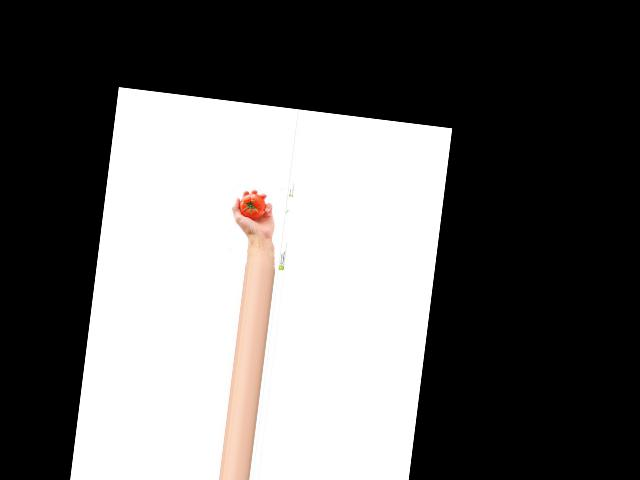tomato: (238, 192, 267, 220)
